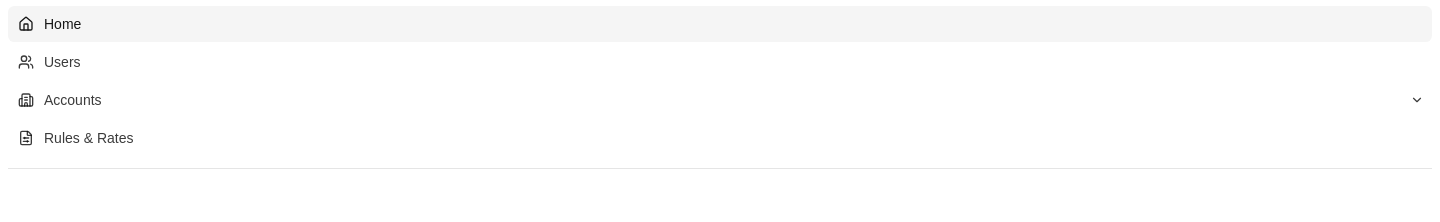
Sidebar › AC: nested Accounts → Clients → Vendors collapses/expands
This screenshot has width=1440, height=222.
Check: the link "Clients" is not shown
Click the button named "expand accounts". click: (1417, 100)
box: [1402, 85, 1432, 115]
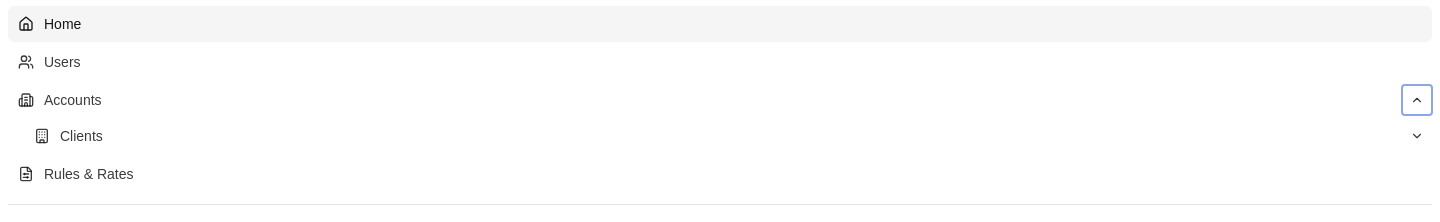
Check: the link "Clients" is shown, box [34, 128, 103, 144]
